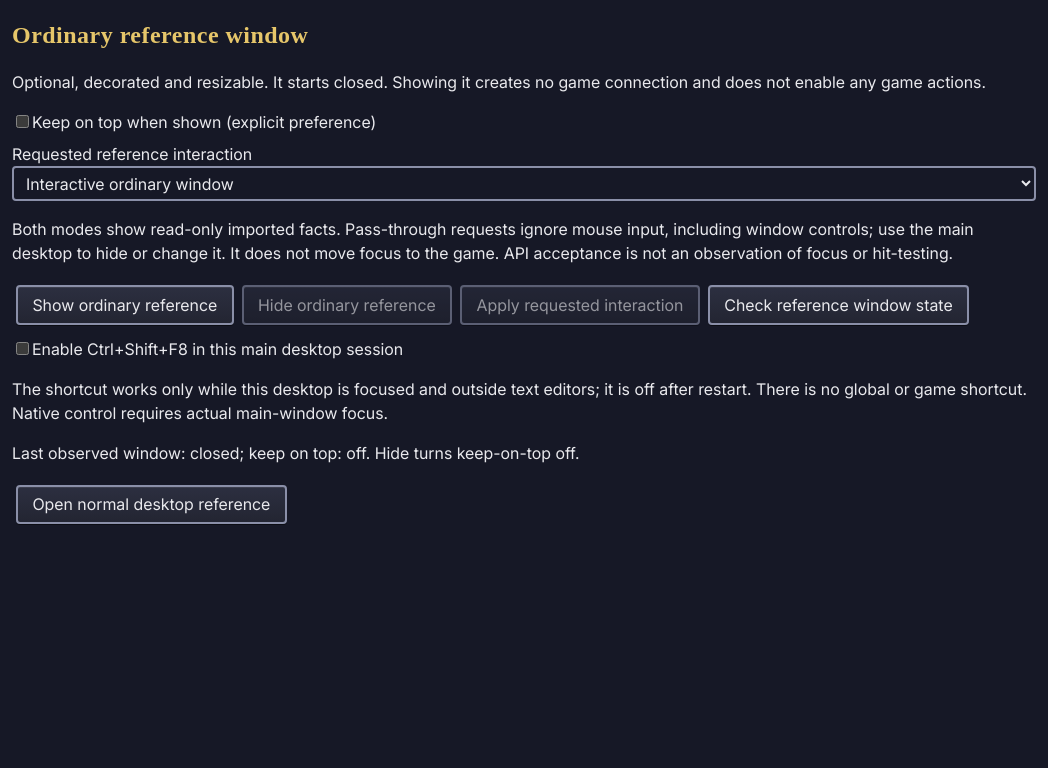
Scenario: requires explicit opt-in, passes declared mode, ignores busy and editing keys
Expected: the text "Last observed window: closed" is shown, x1=12 y1=443 x2=580 y2=463
Press F8
Select "Pass through mouse; request nonfocusable" in the dropdown labelled "Requested reference interaction" at (524, 184), box x1=12 y1=166 x2=1036 y2=201
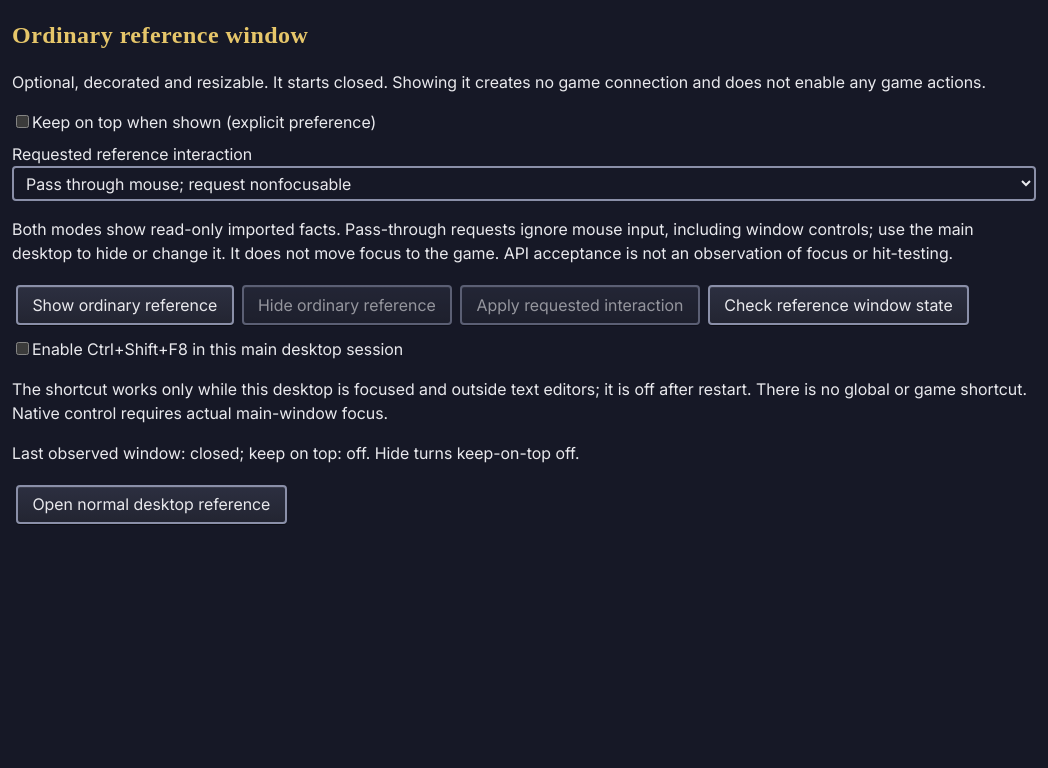
Click the checkbox labelled "Enable Ctrl+Shift+F8 in this main desktop session" at (22, 348), box x1=16 y1=342 x2=29 y2=355
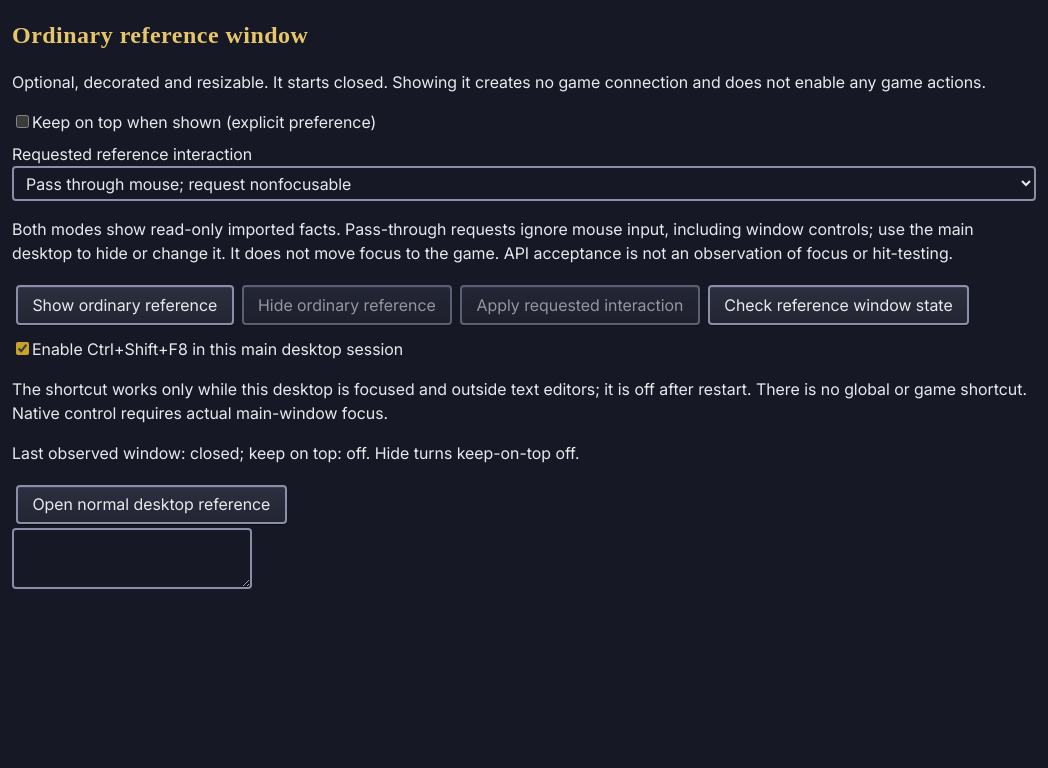
Press F8 in the text box, box x1=12 y1=528 x2=252 y2=589
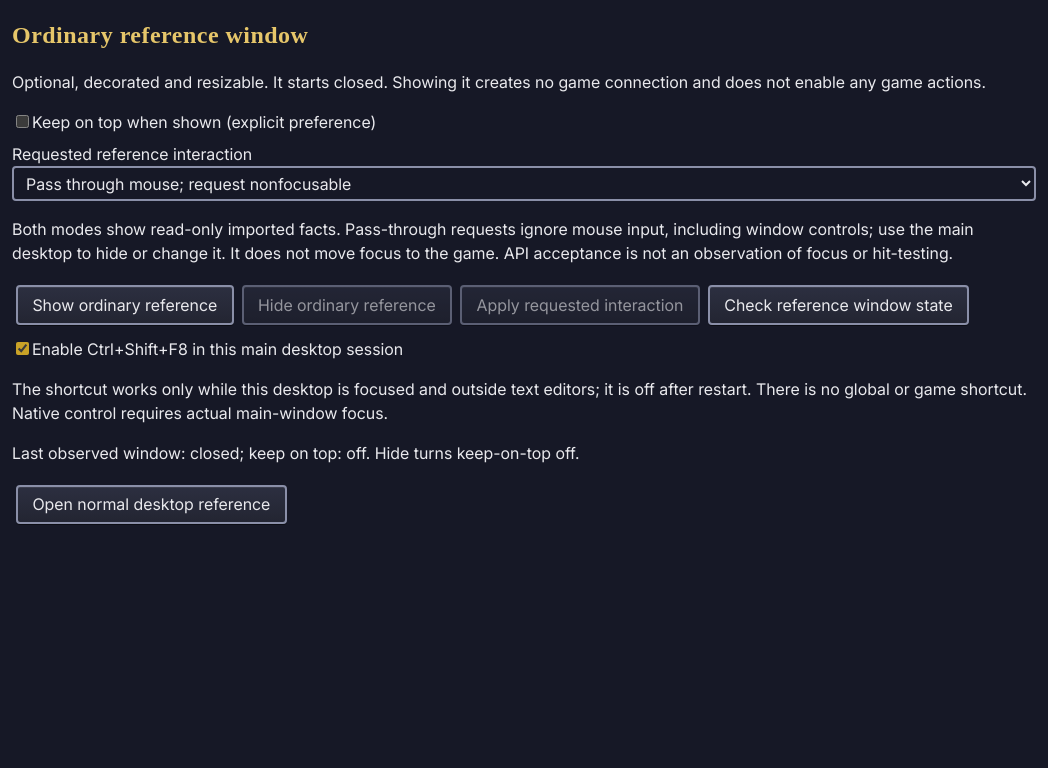
Press F8
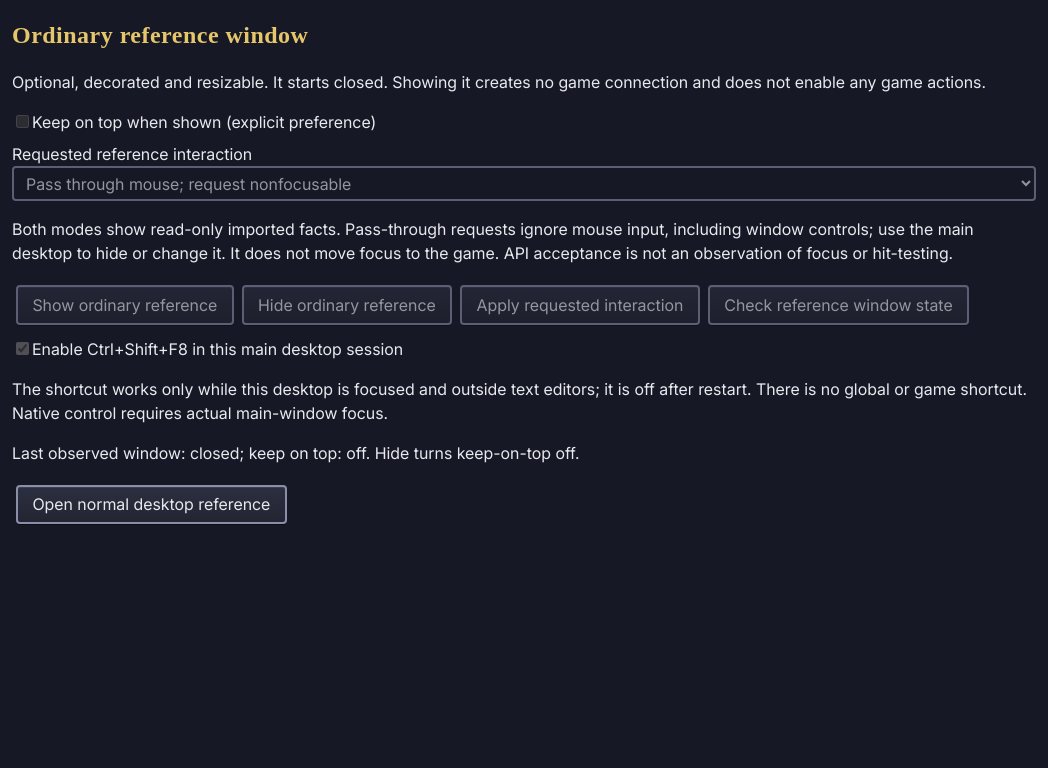
Press F8
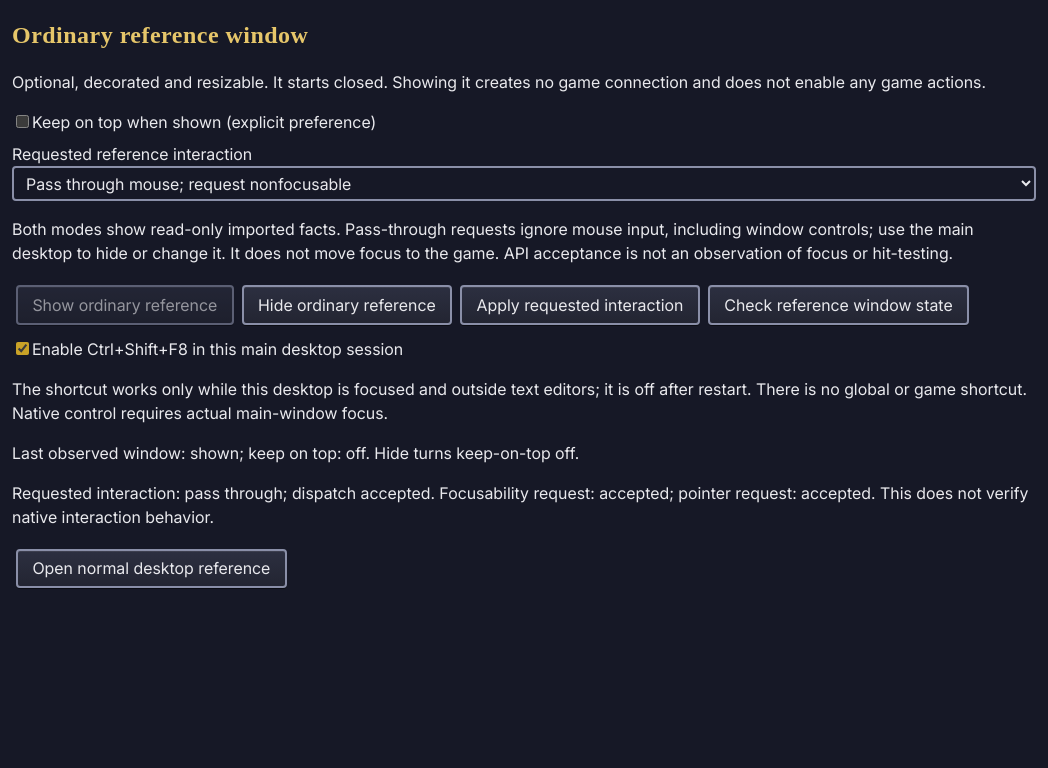
Now the text "dispatch accepted" is shown, box x1=12 y1=481 x2=1036 y2=529
Now the text "Last observed window: shown" is shown, box x1=12 y1=443 x2=579 y2=463
Now the text "This does not verify native interaction behavior" is shown, box x1=12 y1=483 x2=1028 y2=527
